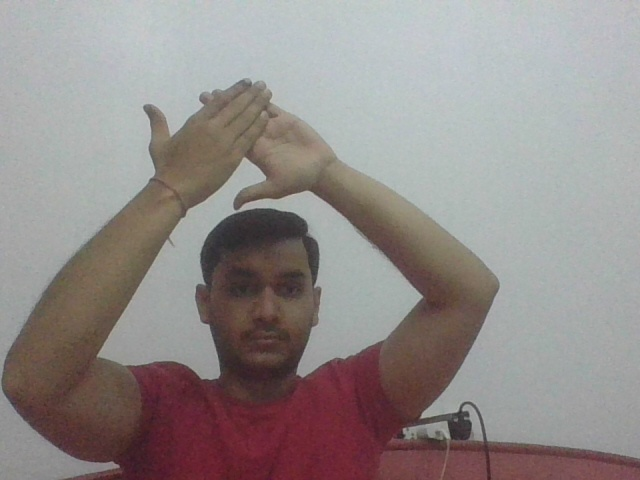H: (146, 74, 325, 211)
